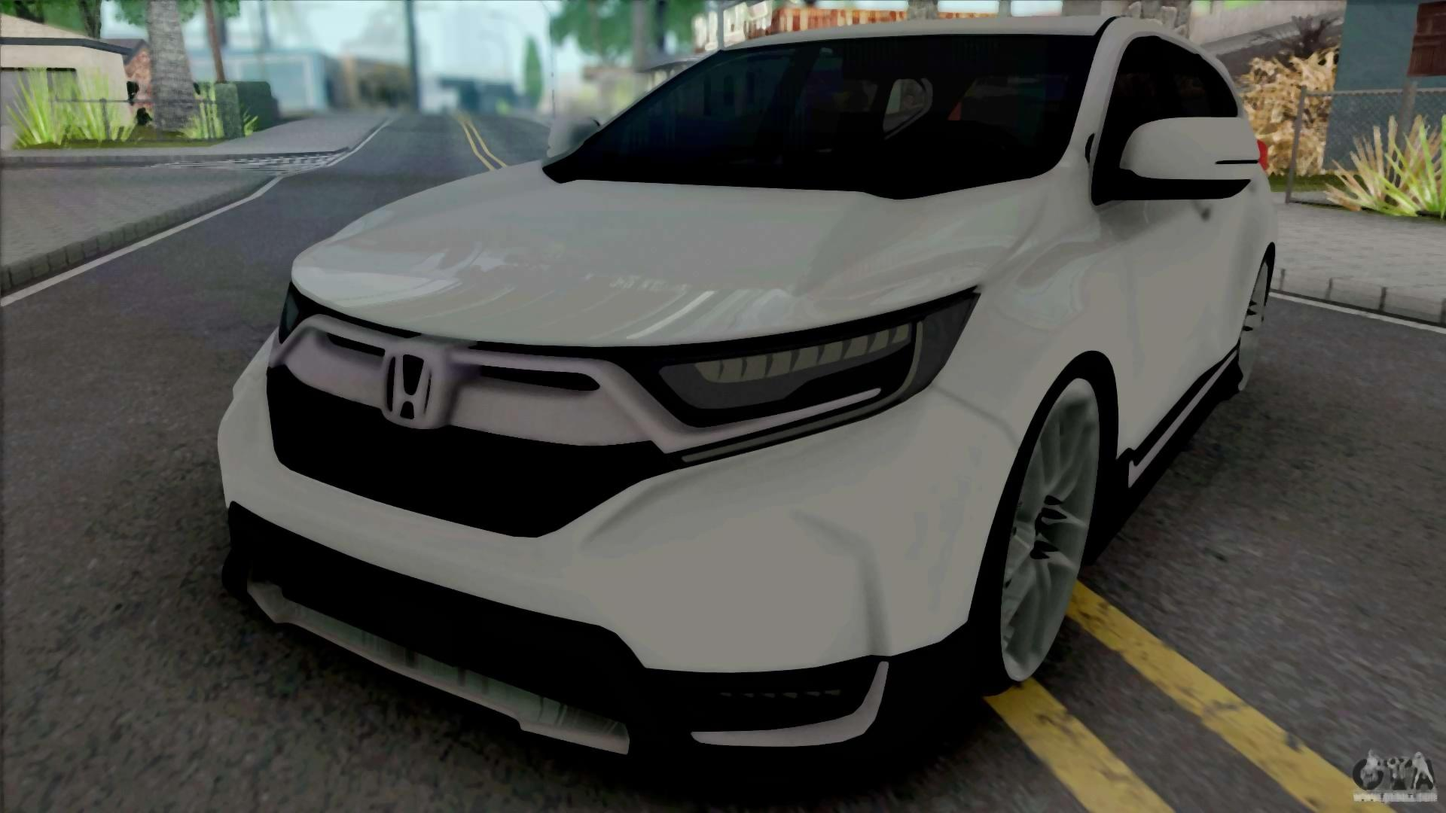Car hood: (281, 159, 1052, 357)
Fender - -F-L-: (931, 152, 1132, 568)
Front bumper: (196, 374, 1043, 794)
Headlight - -L-: (603, 277, 990, 471)
Headlight - -R-: (264, 251, 333, 361)
Passenger-s door - -F-L-: (1120, 38, 1218, 489)
Passenger-s door - -R-L-: (1216, 56, 1264, 411)
Rear light - -L-: (1250, 128, 1292, 179)
Side bumper - -L-: (1067, 335, 1260, 585)
Side mirror - -L-: (1100, 101, 1278, 211)
Side mirror - -R-: (530, 93, 618, 177)
